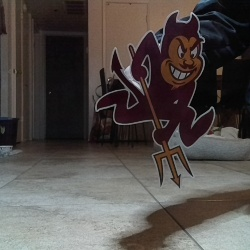sparky: (94, 10, 216, 189)
